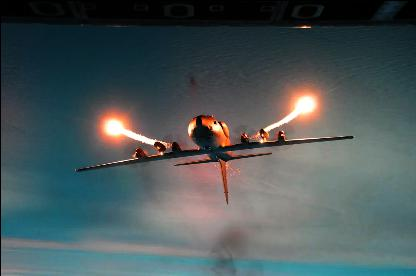Be200: (74, 114, 354, 204)
